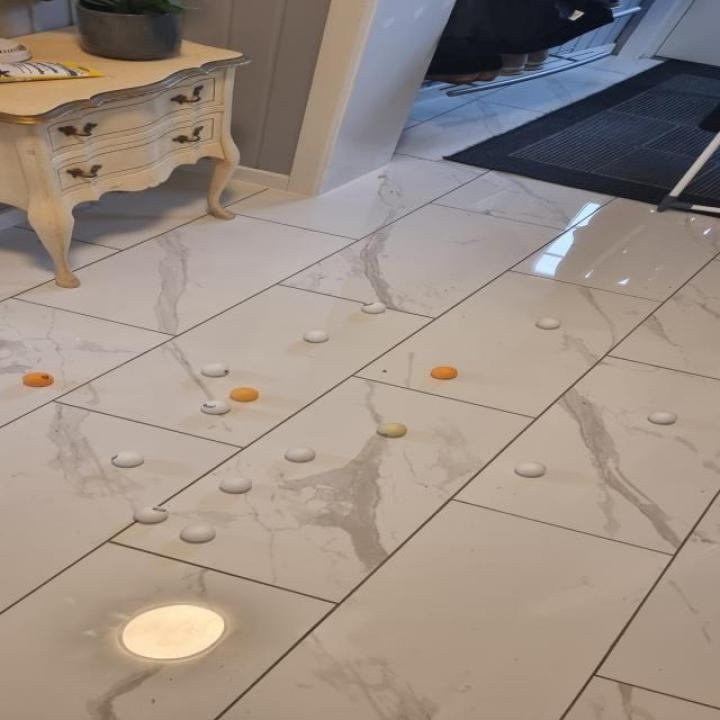orange: (22, 372, 53, 386), (229, 388, 259, 401), (430, 366, 459, 379)
white: (132, 506, 170, 522), (179, 526, 216, 542), (218, 477, 254, 493), (110, 452, 145, 466), (514, 462, 548, 476), (285, 447, 317, 461), (201, 400, 231, 414), (378, 423, 408, 437), (648, 410, 678, 424), (202, 363, 230, 377), (302, 330, 330, 342), (361, 301, 386, 314), (535, 318, 562, 329)
